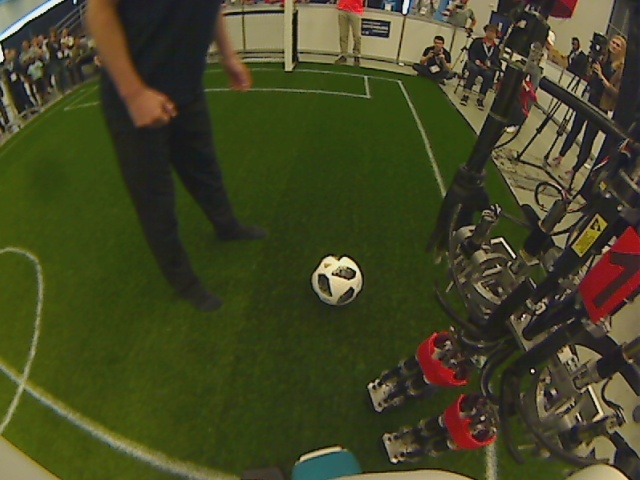ball: (312, 252, 363, 307)
